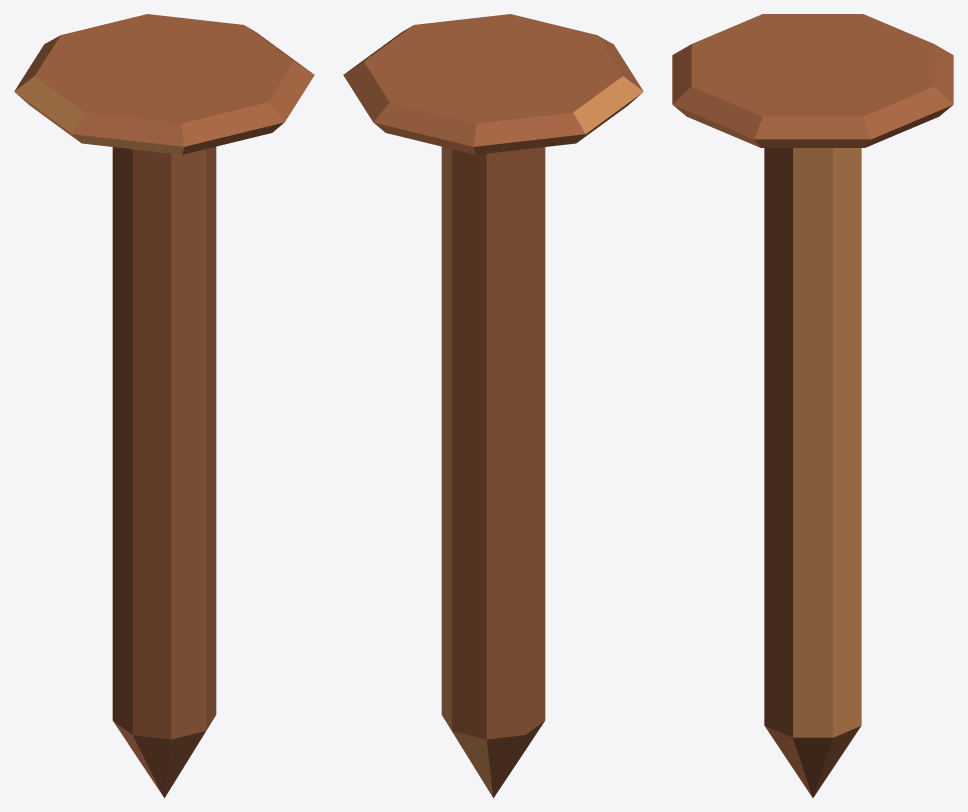
The model's file is Nail_L_Rust.glb.
3 views of the same model, side by side, from view 1: azimuth 30°, elevation 25°; view 2: azimuth 150°, elevation 25°; view 3: azimuth 270°, elevation 25° (orthographic).
Parts seen in each view (by area): view 1: Nail_L_Rust; view 2: Nail_L_Rust; view 3: Nail_L_Rust.
Boxes of the visible parts, box(x1,y1,x2,y2) form: Nail_L_Rust: box(14, 14, 314, 797); Nail_L_Rust: box(343, 14, 643, 797); Nail_L_Rust: box(672, 14, 953, 797).
Bounding box in the file's own units: 0.0697 × 0.2 × 0.0697.
